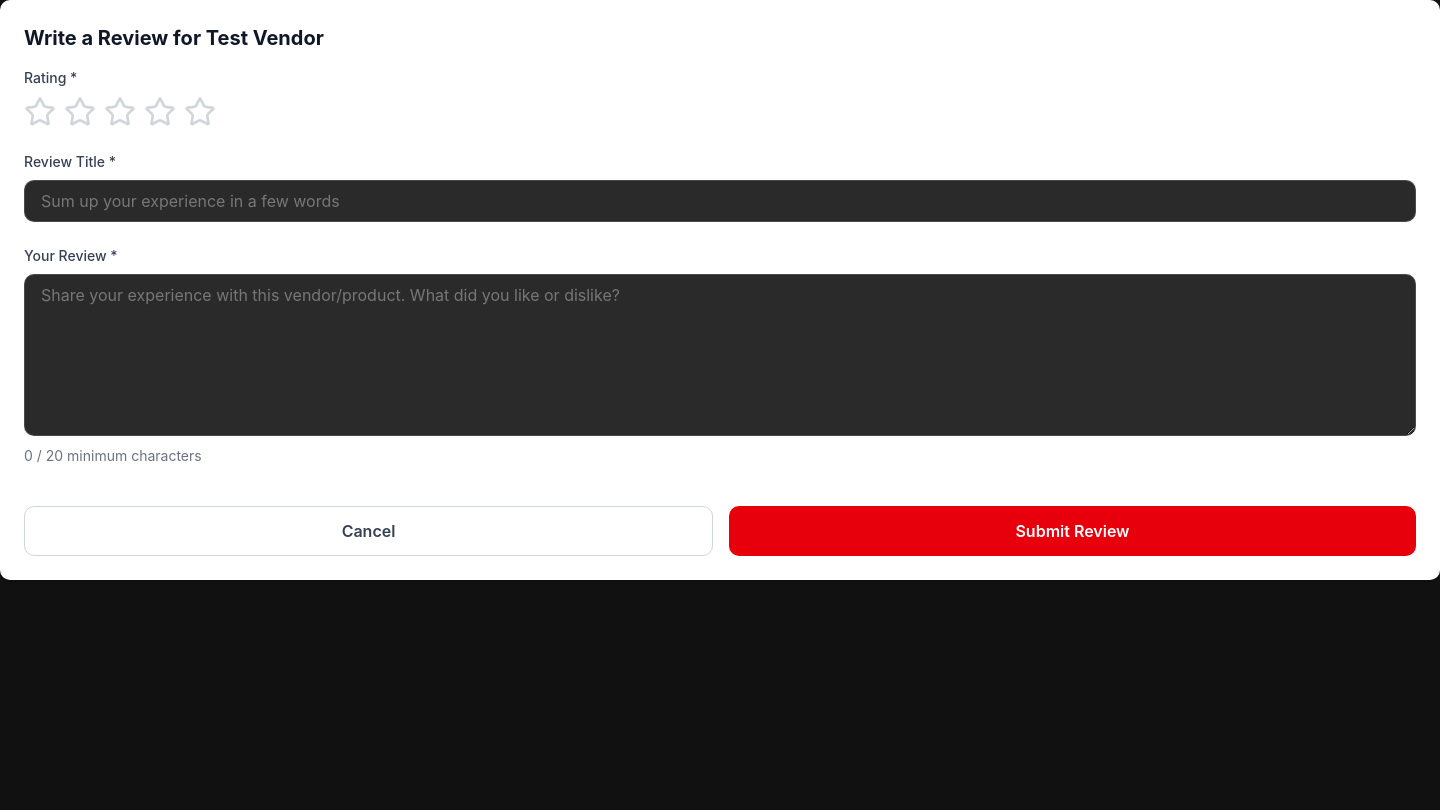
Test case: ReviewForm › should show validation error when submitting without rating
The width and height of the screenshot is (1440, 810).
Click the button "Submit Review": coordinates (1072, 531) [729,506,1416,556]
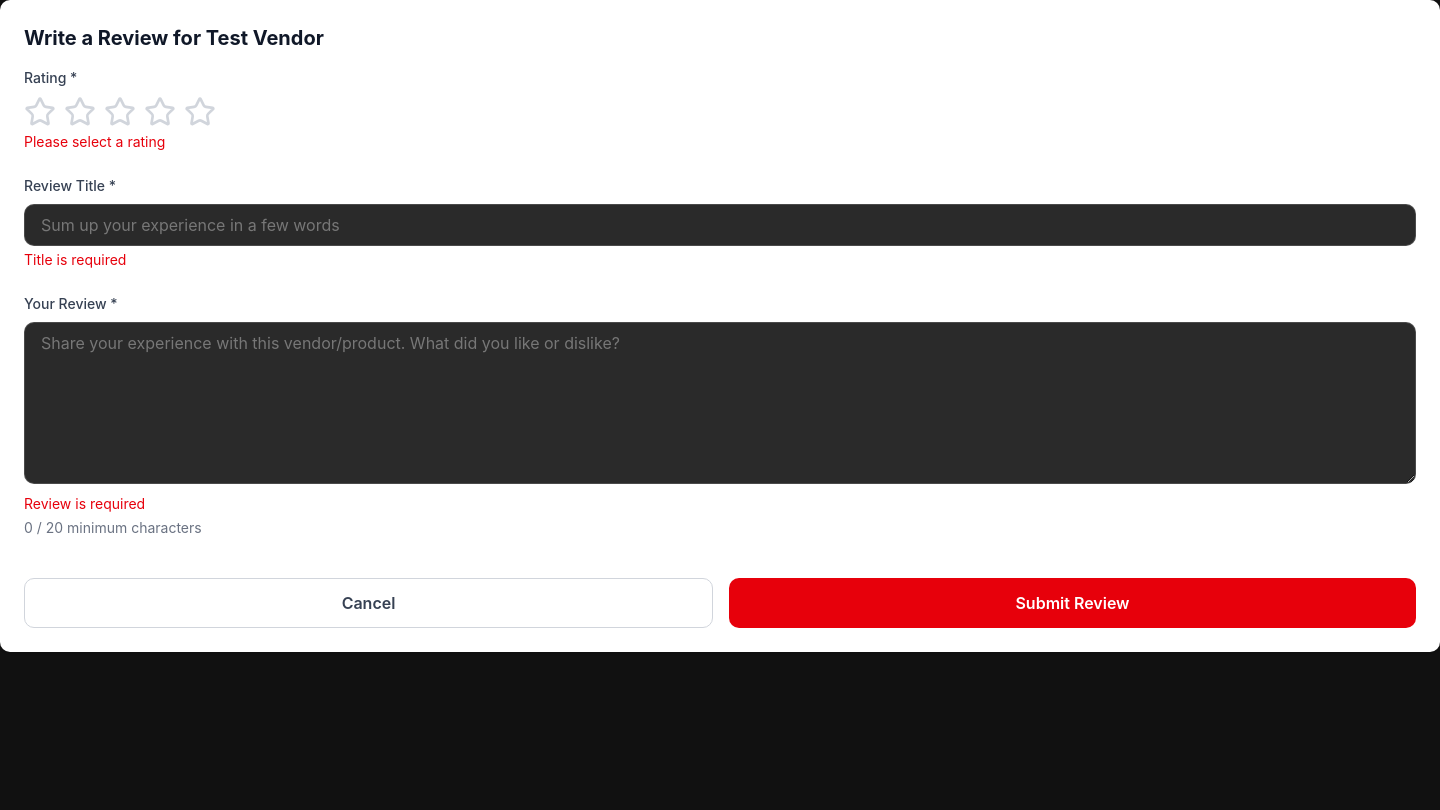
Expected: the text "Please select a rating" is shown, [24,133,165,150]
